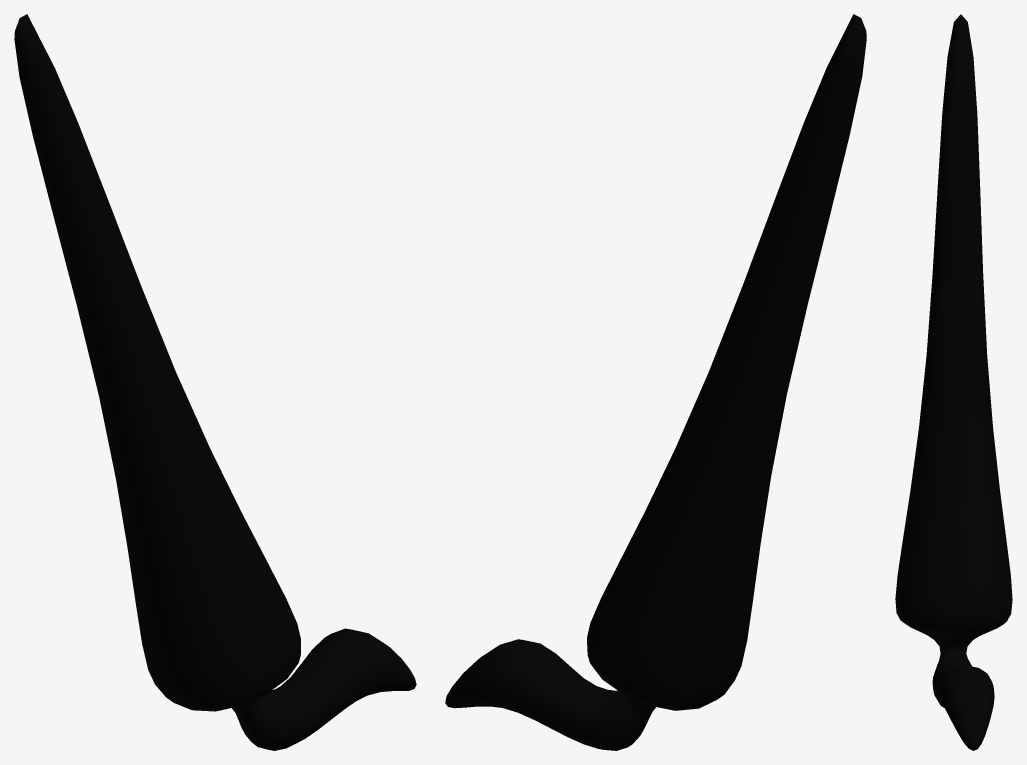
File: Front leg 2.fbx
3 views of the same model, side by side, from view 1: azimuth 30°, elevation 25°; view 2: azimuth 150°, elevation 25°; view 3: azimuth 270°, elevation 25° (orthographic). The views are drawn at different scales.
Visible parts, largest first — view 1: Cube.007; view 2: Cube.007; view 3: Cube.007.
Boxes of the visible parts, bbox=[...] form: Cube.007: bbox=[14, 14, 416, 750]; Cube.007: bbox=[445, 14, 866, 750]; Cube.007: bbox=[895, 14, 1012, 750].
Size of the model in its own units: 52.3 by 96.55 by 17.08.
